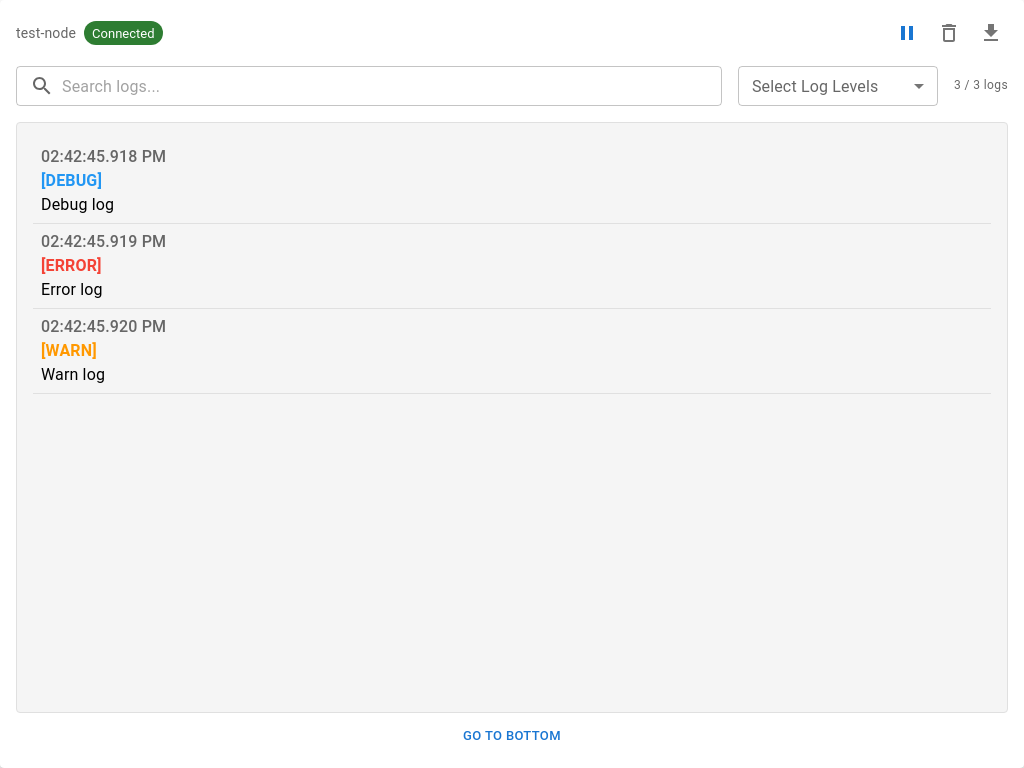
Test: LogsViewer › Filters and search › filters by search term
This screenshot has width=1024, height=768.
expect the text "Debug log" is shown: met, box [41,195,114,214]
expect the text "Error log" is shown: met, box [41,280,103,299]
Type "debug" into the field with placeholder "Search logs...".
click(392, 86); type("debug")  # box [62,66,722,106]
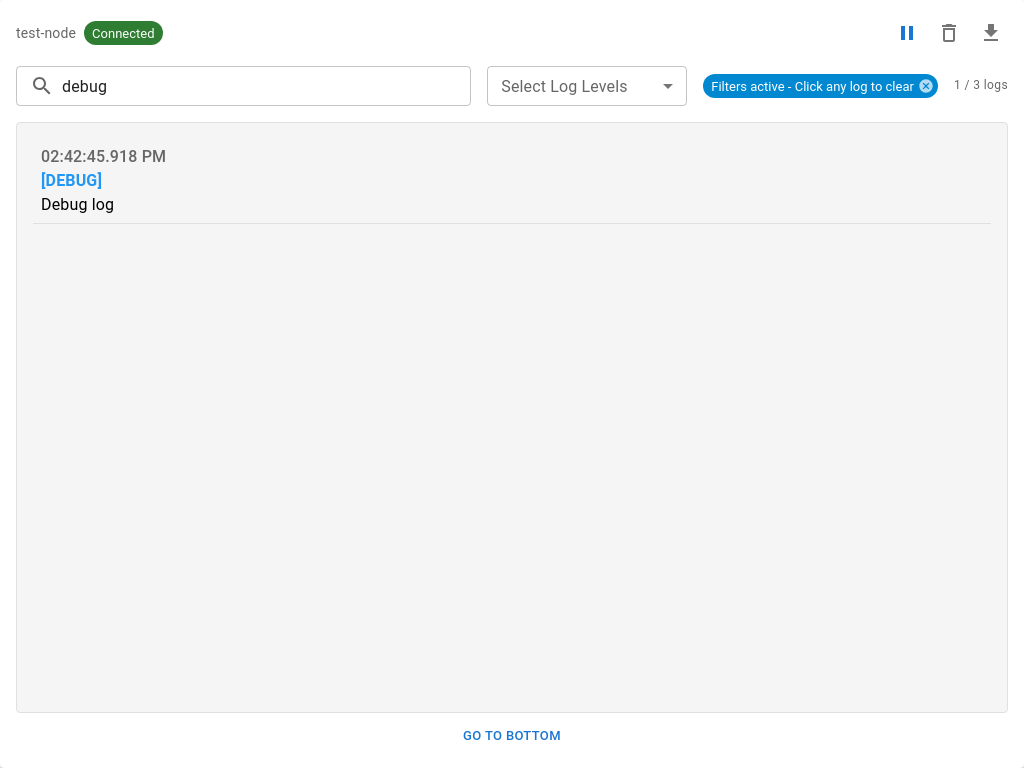
expect the text "Debug log" is shown: met, box [41,195,114,214]
expect the text "Error log" is gone: met
expect the text "Filters active - Click any log to clear" is shown: met, box [703,78,922,94]
